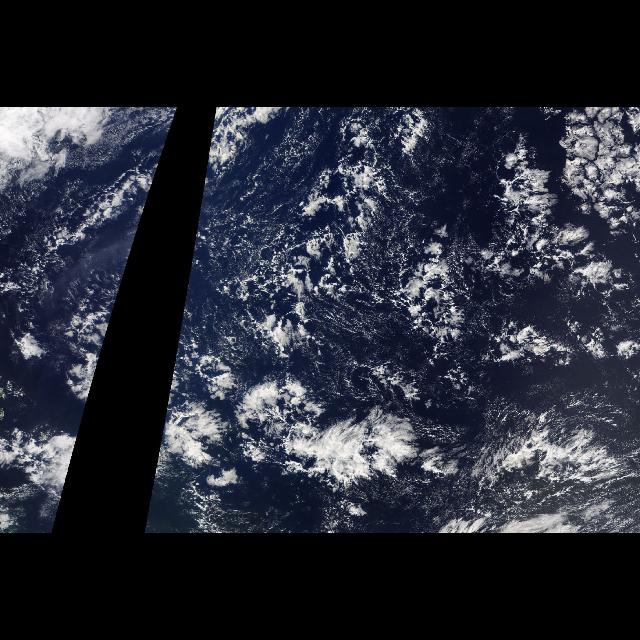Fish: (223, 112, 631, 500)
Gravel: (185, 118, 557, 364)
